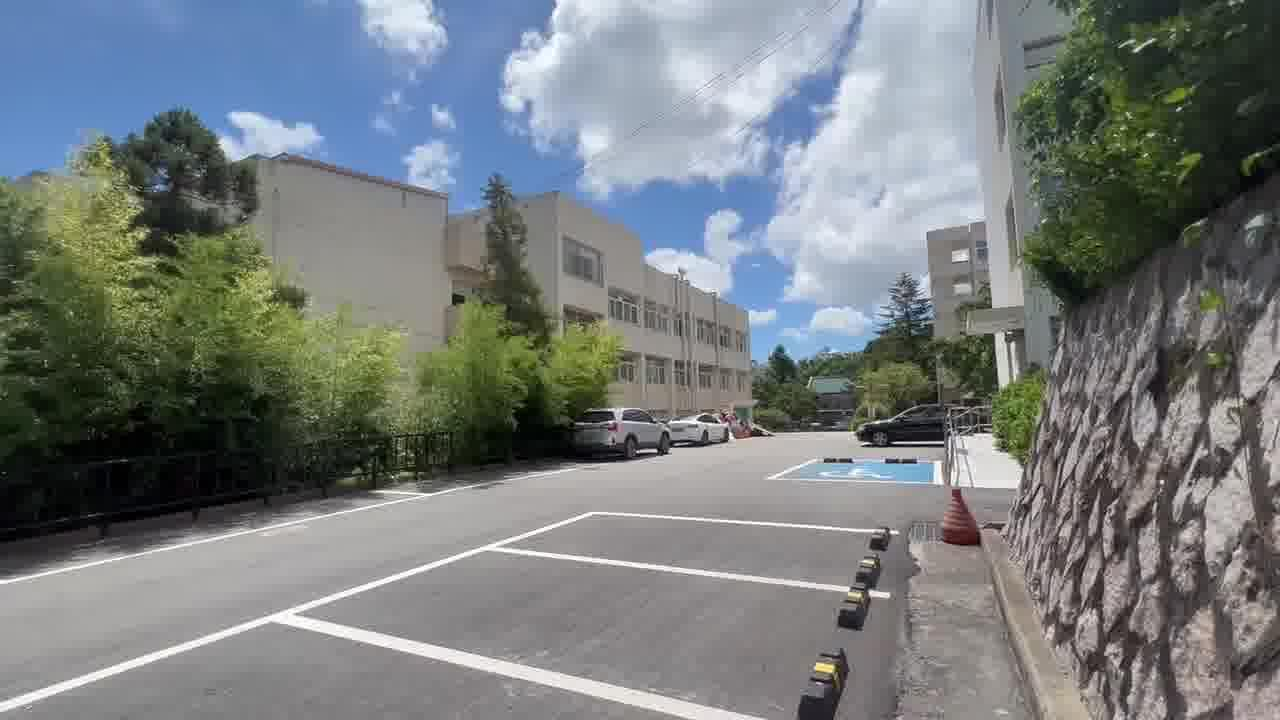building: (561, 226, 759, 397)
